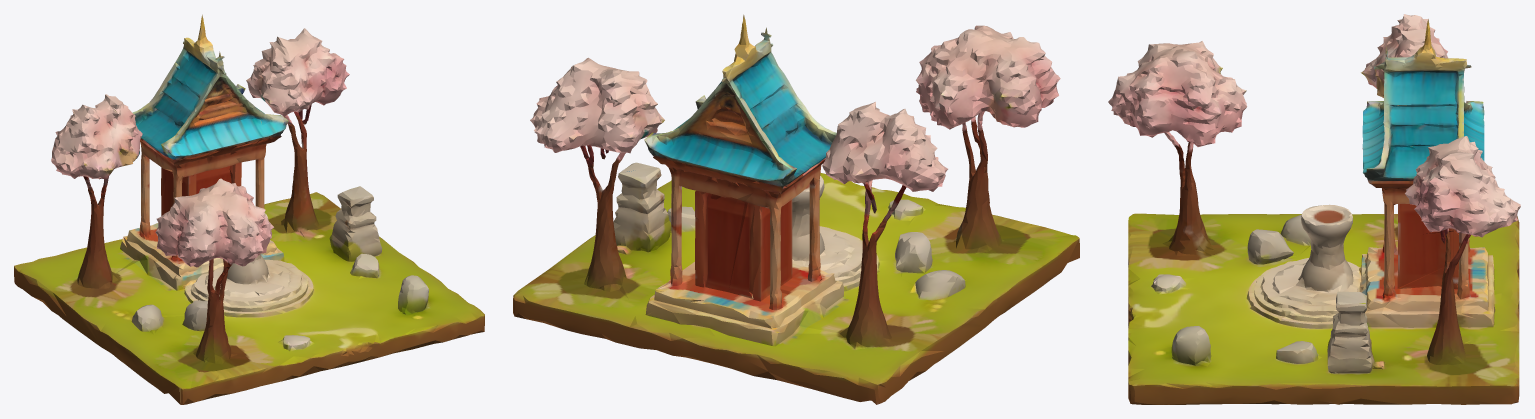
The model's file is sanctum.glb.
3 renders of one model, left to right at view 1: azimuth 30°, elevation 25°; view 2: azimuth 150°, elevation 25°; view 3: azimuth 270°, elevation 25°, orthographic. The views are drawn at different scales.
Visible parts, largest first — view 1: Sanctum; view 2: Sanctum; view 3: Sanctum.
Part boxes in pixels (x1,y1,x2,y2): Sanctum: (14, 14, 484, 404); Sanctum: (513, 14, 1079, 404); Sanctum: (1108, 14, 1520, 404).
Bounding box in the file's own units: 1.88 × 1.51 × 1.88.
1 material, 1 textured.
